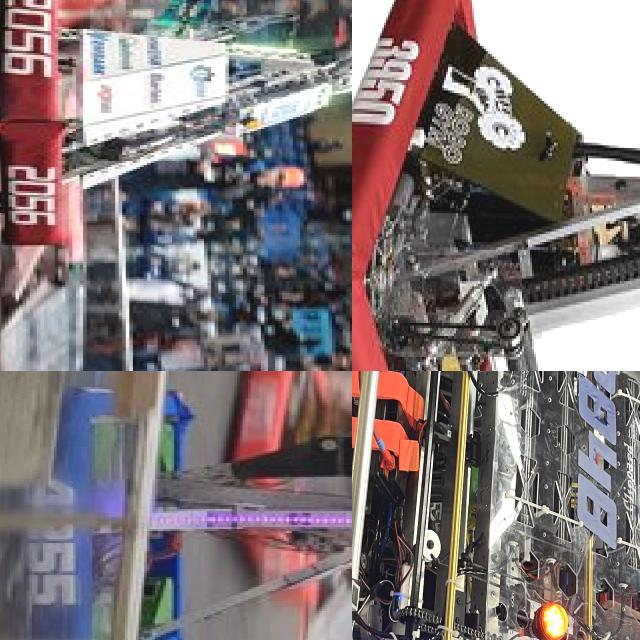FRC-Robots: (352, 0, 640, 371), (0, 0, 352, 256), (11, 396, 352, 640), (352, 371, 640, 640), (235, 371, 352, 613)
